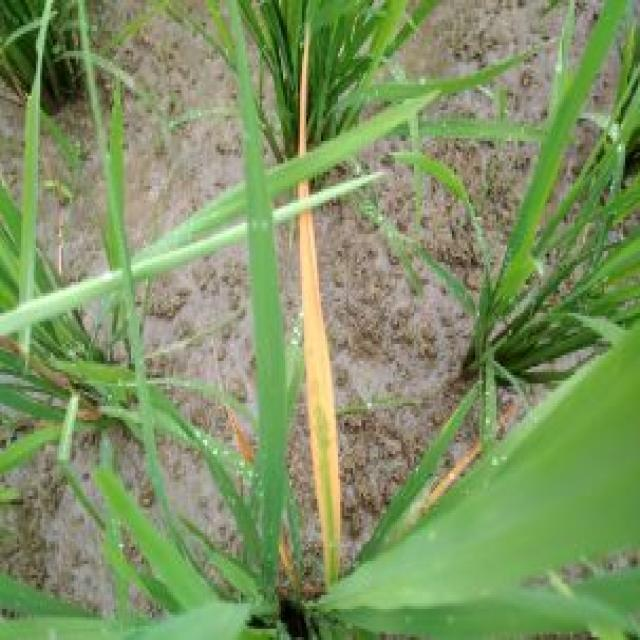Rice Tungro: (294, 57, 353, 608)
